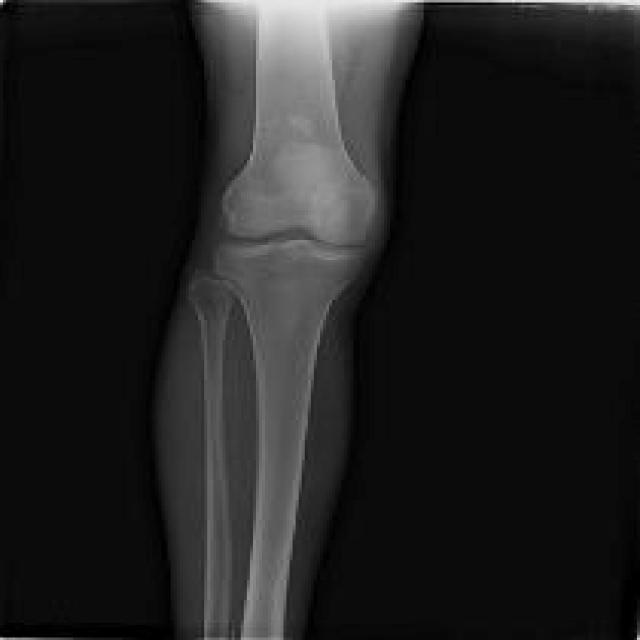normal: (214, 241, 357, 637), (225, 0, 370, 241), (187, 283, 236, 636)
